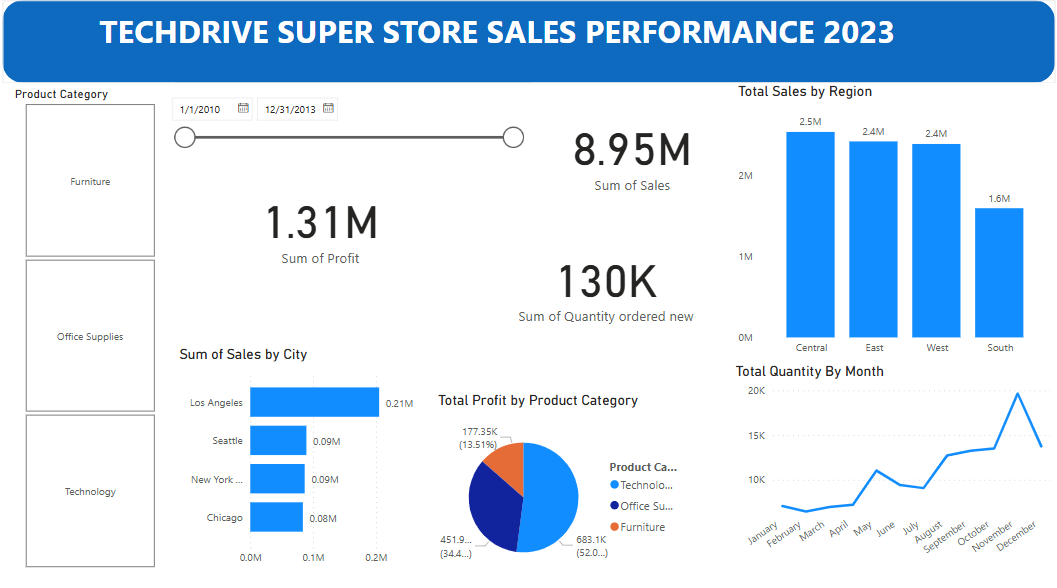

What the dashboard file says about the page in this screenshot:
{"tool":"powerbi","page":{"name":"Page 1","canvas":[1280,720],"ordinal":0},"visuals":[{"type":"shape","box":[8.9,19.4,1255.3,98.4],"z":0},{"type":"textbox","box":[119.8,24.8,1072.6,86.7],"z":1},{"type":"clusteredColumnChart","title":"Total Sales by Region","fields":{"Category":["Orders.Region"],"Y":["Sum(Orders.Sales)"]},"box":[881.1,117.8,383.1,333.9],"z":2},{"type":"pieChart","title":"Total Profit by Product Category","fields":{"Y":["Sum(Orders.Profit)"],"Category":["Orders.Product Category"]},"box":[523.3,486,302.6,234.1],"z":3},{"type":"lineChart","title":"Total Quantity By Month","fields":{"Category":["Orders.Order Date.Variation.Date Hierarchy.Month"],"Y":["Sum(Orders.Quantity ordered new)"]},"box":[878.1,451.7,386.1,250.5],"z":4},{"type":"card","fields":{"Values":["Sum(Orders.Sales)"]},"box":[639.6,117.8,241.5,167],"z":5},{"type":"card","fields":{"Values":["Sum(Orders.Quantity ordered new)"]},"box":[608.3,284.7,241.5,146.1],"z":6},{"type":"slicer","fields":{"Values":["Orders.Product Category"]},"box":[10.4,117.8,204.2,584.4],"z":7},{"type":"slicer","fields":{"Values":["Orders.Order Date"]},"box":[198.3,125.2,441.3,76],"z":8},{"type":"card","fields":{"Values":["Sum(Orders.Profit)"]},"box":[214.7,216.2,347.4,143.1],"z":9},{"type":"clusteredBarChart","fields":{"Y":["Sum(Orders.Sales)"],"Category":["Orders.City"]},"box":[214.7,430.8,308.6,271.3],"z":10}]}

Visuals, with their boxes in screenshot pixels (x1, y1, x2, y2), scaled from the page's 1280x720 canvas onto the 1057x588 screenshot:
shape: 7:16:1044:96
textbox: 99:20:985:91
"Total Sales by Region" clusteredColumnChart: 728:96:1044:369
"Total Profit by Product Category" pieChart: 432:397:682:587
"Total Quantity By Month" lineChart: 725:369:1044:573
card - Sum(Orders.Sales): 528:96:728:233
card - Sum(Orders.Quantity ordered new): 502:233:702:352
slicer - Orders.Product Category: 9:96:177:573
slicer - Orders.Order Date: 164:102:528:164
card - Sum(Orders.Profit): 177:177:464:293
clusteredBarChart - Sum(Orders.Sales) x Orders.City: 177:352:432:573
